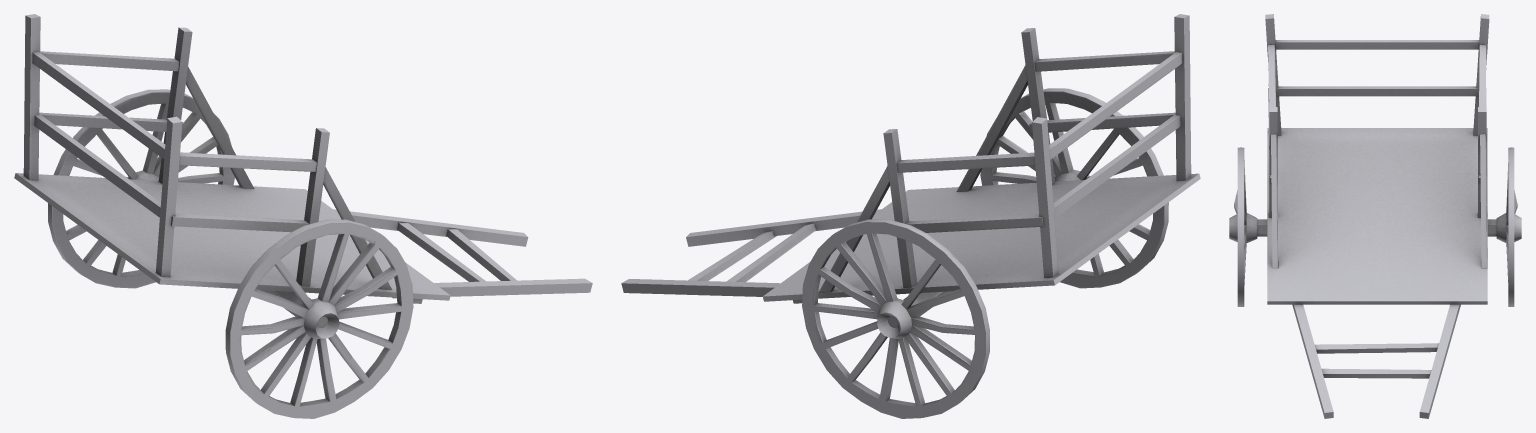
The model's file is Vagon.FBX.
The picture shows the model from 3 angles, left to right: view 1: azimuth 30°, elevation 25°; view 2: azimuth 150°, elevation 25°; view 3: azimuth 270°, elevation 25°; orthographic projection. The views are drawn at different scales.
Parts seen in each view (by area): view 1: Vagon; view 2: Vagon; view 3: Vagon.
Boxes of the visible parts, <box> form: Vagon: <box>14,14,592,418</box>; Vagon: <box>621,14,1200,418</box>; Vagon: <box>1229,14,1521,418</box>.
Bounding box in the file's own units: 26.86 × 17.07 × 19.01.
